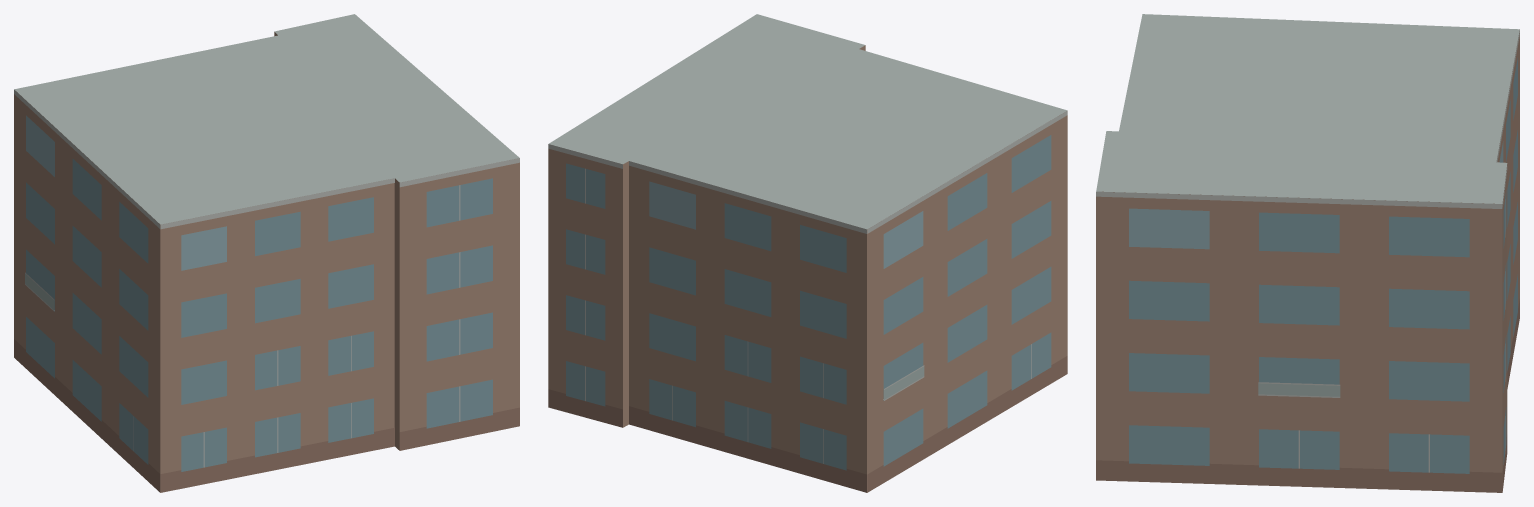
The model's file is survey-upis-32837050.glb.
3 views of the same model, side by side, from view 1: azimuth 30°, elevation 25°; view 2: azimuth 150°, elevation 25°; view 3: azimuth 270°, elevation 25° (orthographic). The views are drawn at different scales.
Parts seen in each view (by area): view 1: survey-upis-32837050.tmp; view 2: survey-upis-32837050.tmp; view 3: survey-upis-32837050.tmp.
Boxes of the visible parts, <box> form: survey-upis-32837050.tmp: <box>14,14,519,492</box>; survey-upis-32837050.tmp: <box>548,14,1067,492</box>; survey-upis-32837050.tmp: <box>1096,14,1519,492</box>.
Size of the model in its own units: 19.48 by 13.8 by 18.36.
